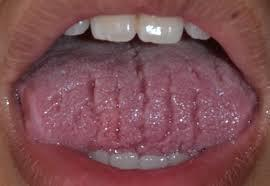baitaishe: (21, 44, 256, 145)
liewenshe: (129, 54, 152, 130)
